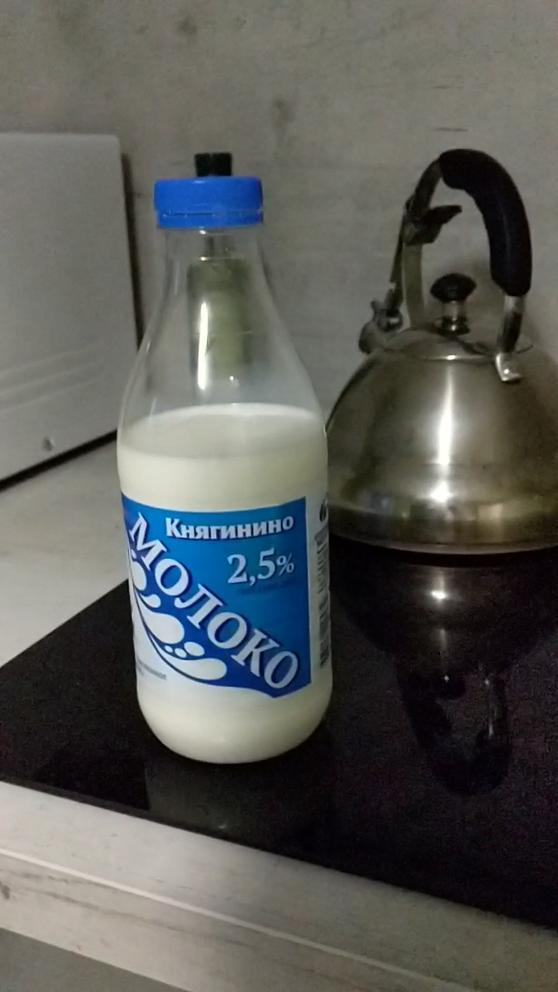milk: (102, 167, 366, 774)
